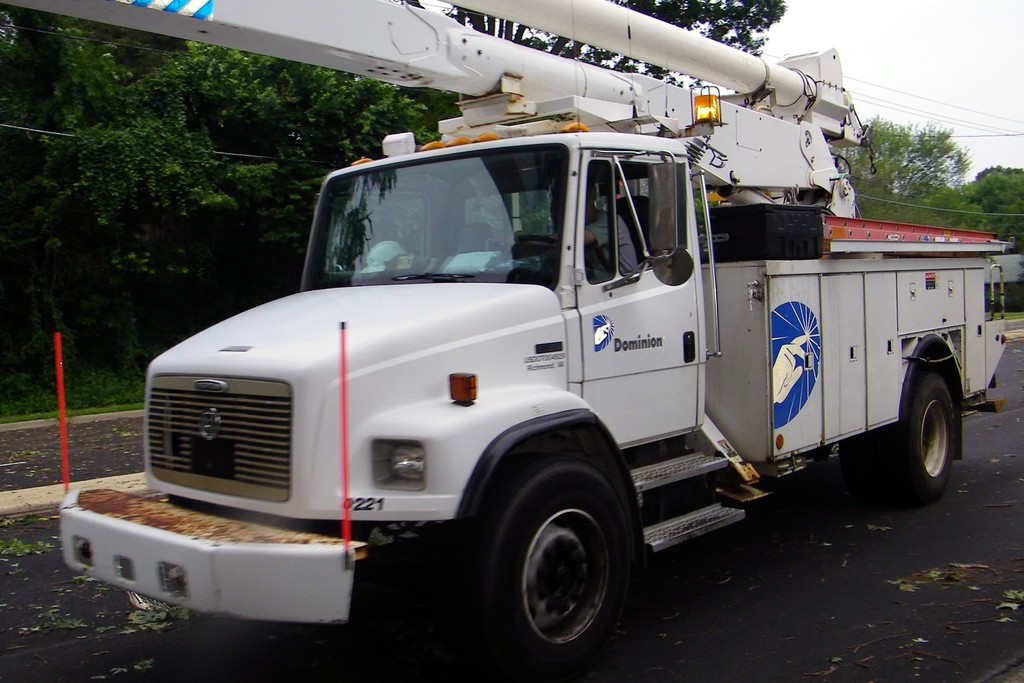Truck: (59, 0, 1015, 683)
